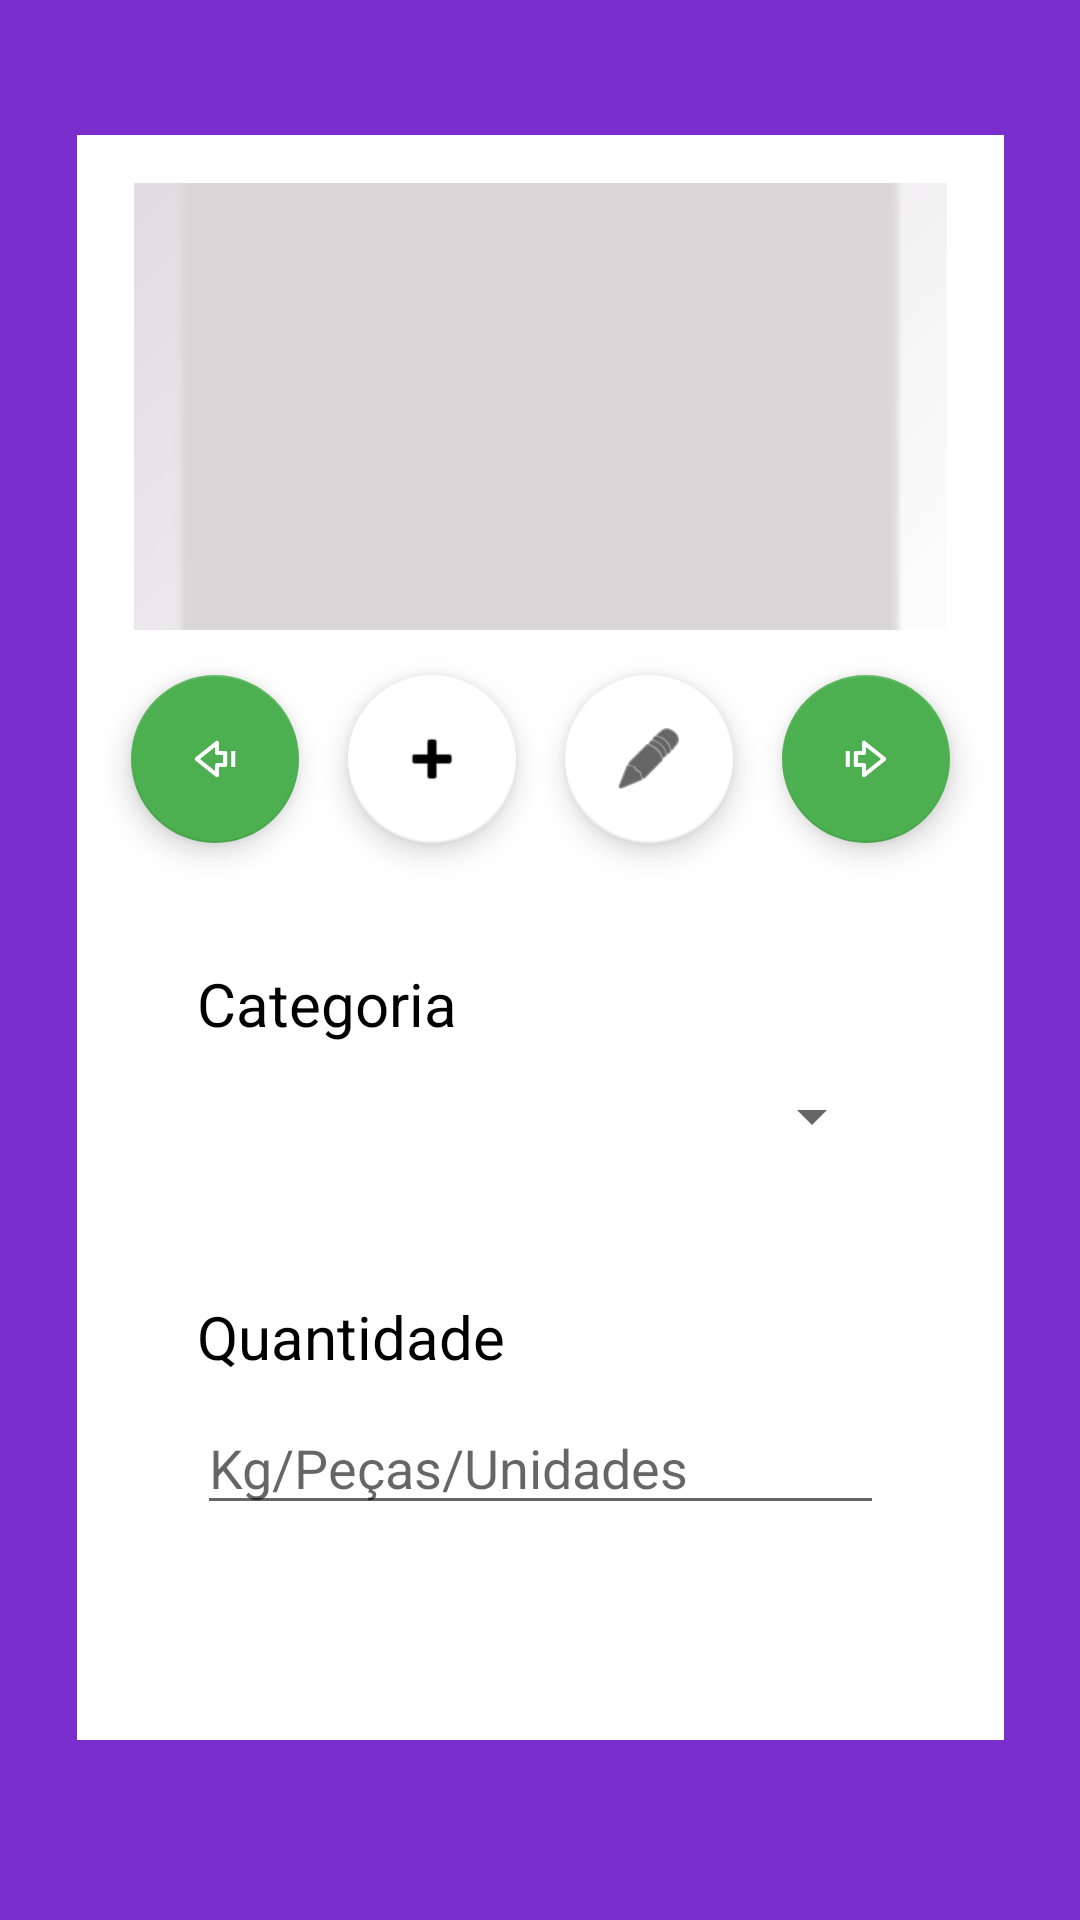

Where icons sit on this 1080*1920 app screen, as (x1, y1, x2, y2):
add: (348, 739, 512, 843)
arrow left line: (131, 675, 299, 843)
arrow right line: (782, 675, 950, 843)
edit: (569, 728, 733, 843)
